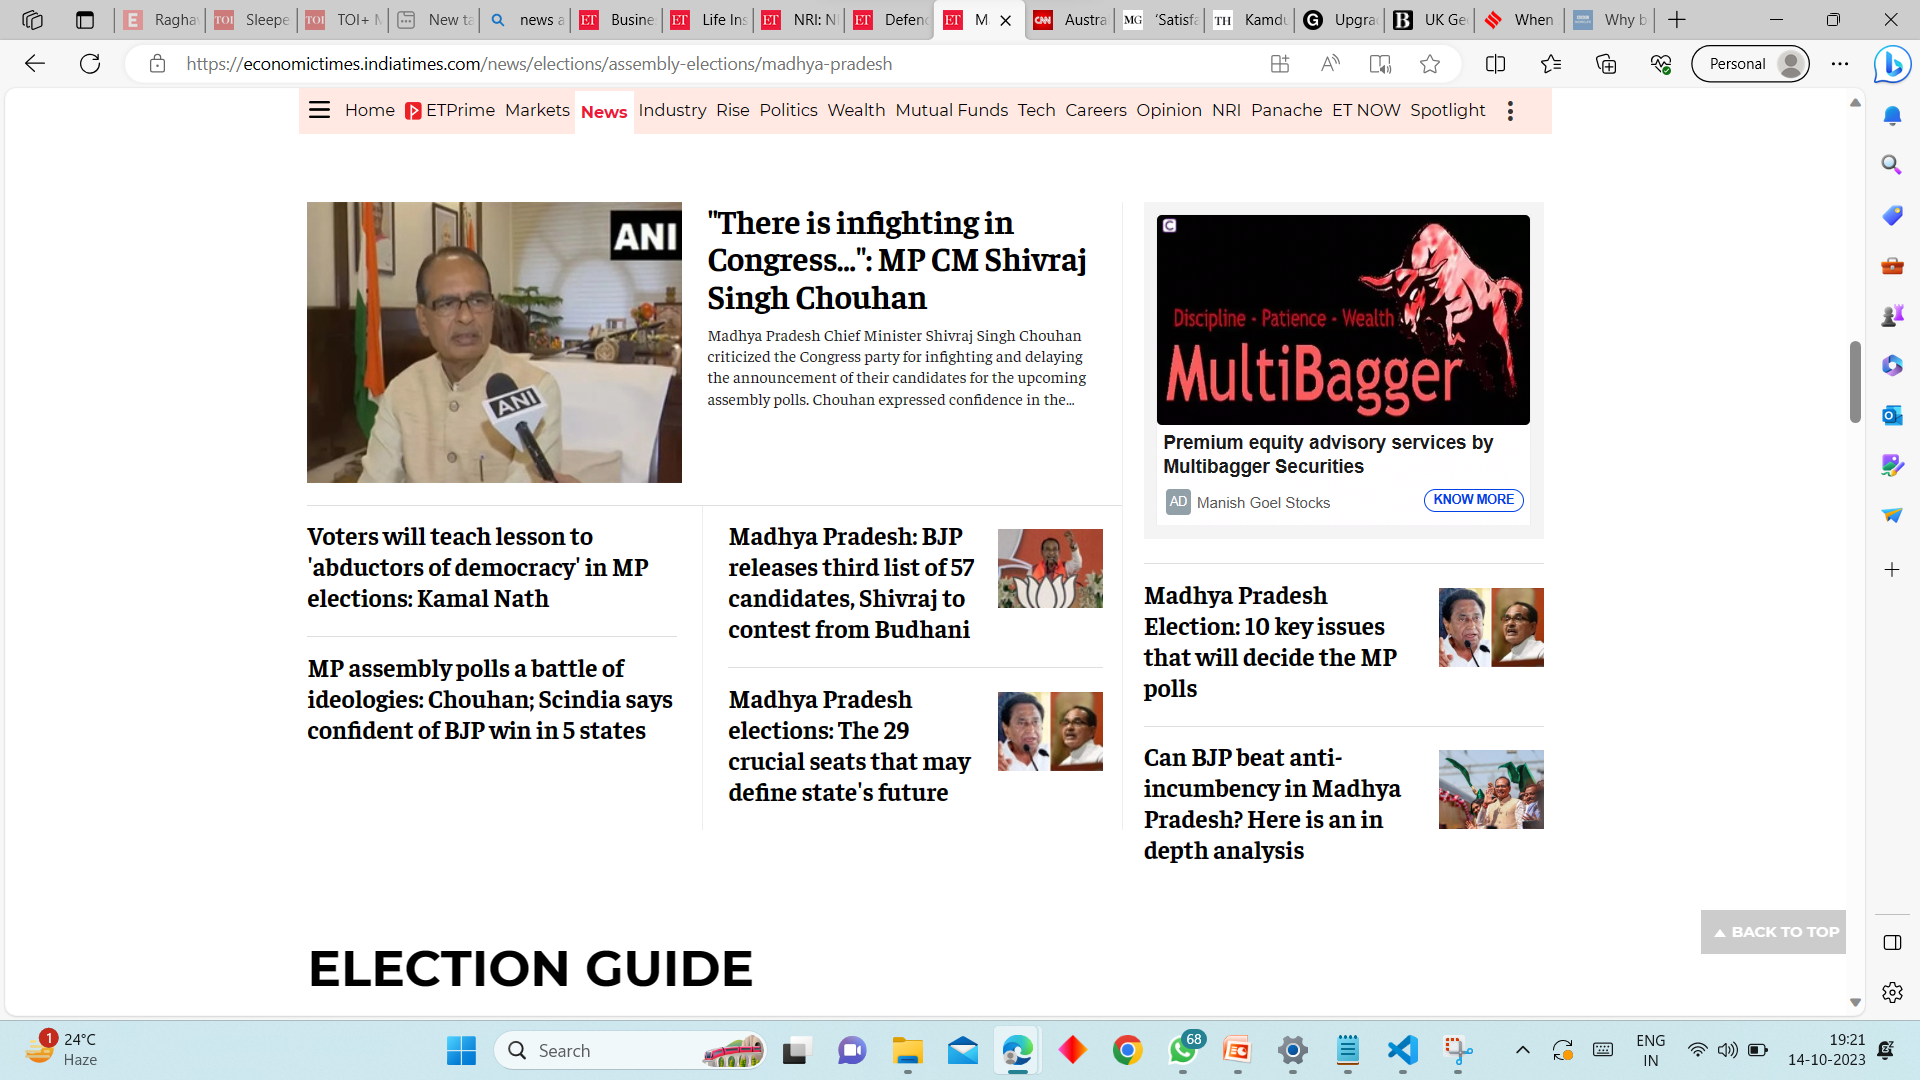Image: (1151, 203, 1553, 541), (293, 195, 684, 485), (990, 517, 1112, 626), (990, 695, 1121, 782), (1431, 584, 1547, 682), (1440, 745, 1553, 843)
Paragraph: (695, 196, 1100, 311), (702, 324, 1102, 438), (284, 512, 687, 620), (704, 678, 977, 836), (1134, 740, 1418, 887), (298, 642, 669, 753), (1138, 566, 1420, 711), (711, 512, 973, 646)
